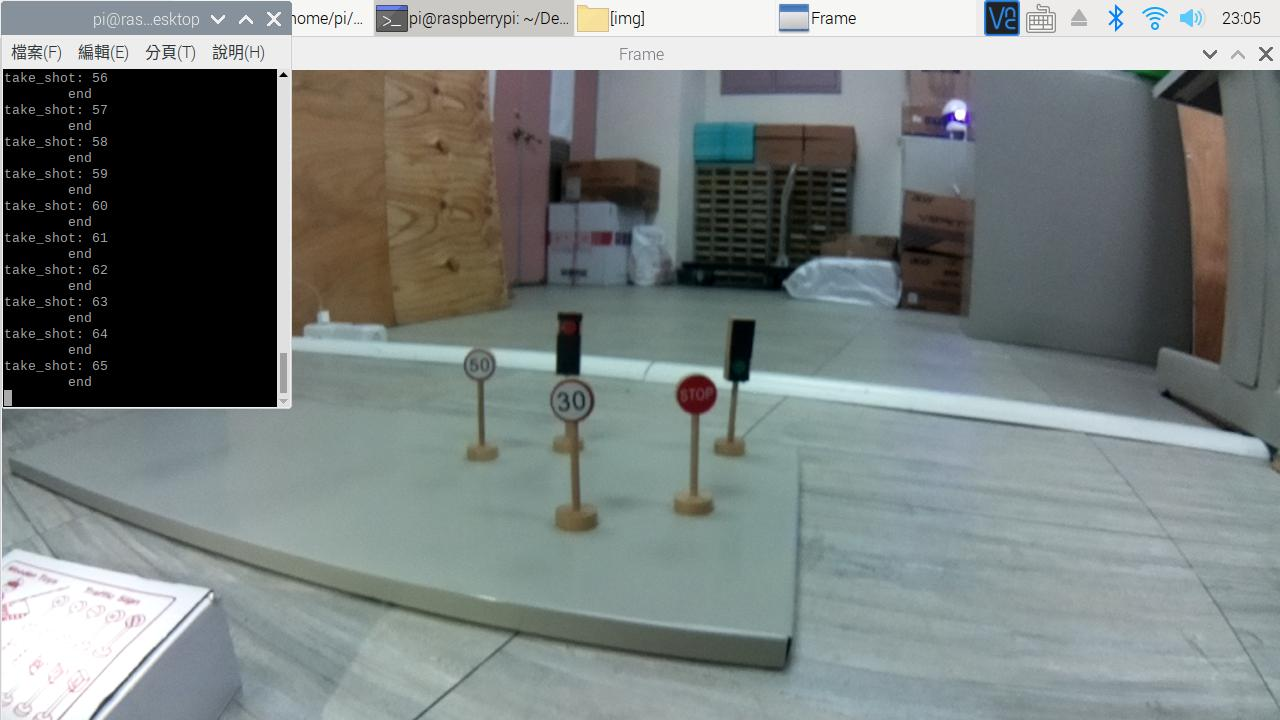Green: (722, 315, 760, 386)
Red: (550, 306, 591, 379)
Speed30: (546, 377, 597, 422)
Speed50: (460, 343, 503, 390)
Stop: (672, 373, 724, 419)
